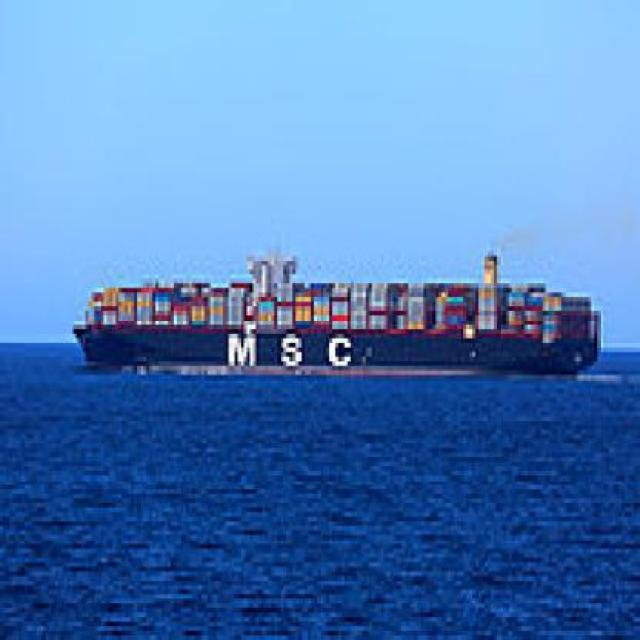container: (71, 243, 608, 385)
